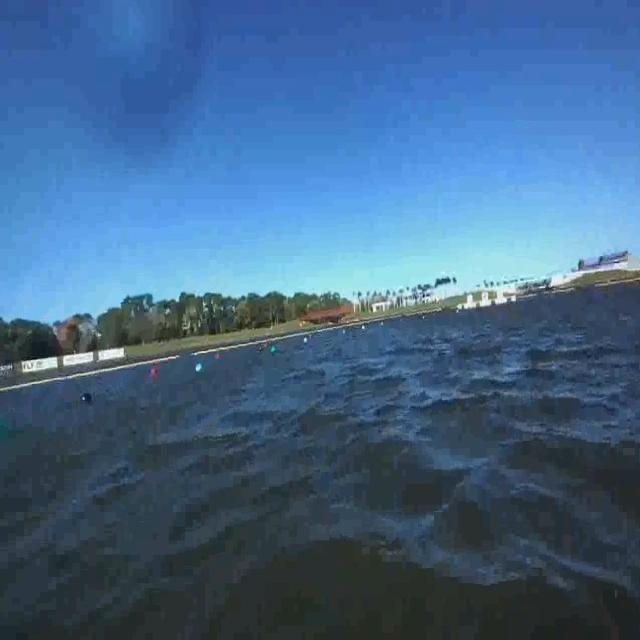black-buoy: (80, 388, 94, 408)
green-buoy: (195, 361, 204, 374)
red-buoy: (151, 365, 157, 376)
